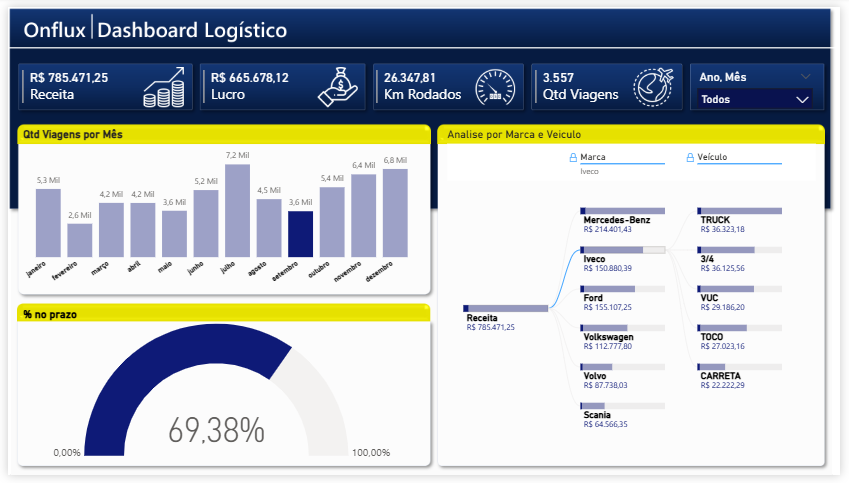

What the dashboard file says about the page in this screenshot:
{"tool":"powerbi","page":{"name":"Página 1","canvas":[1280,720],"ordinal":0},"visuals":[{"type":"multiRowCard","fields":{"Values":["BaseLogistica.Receita"]},"box":[16.7,91.7,237.5,63.3],"z":0},{"type":"multiRowCard","fields":{"Values":["BaseLogistica.QTD viagens"]},"box":[805.8,92.5,237.5,63.3],"z":1000},{"type":"multiRowCard","fields":{"Values":["BaseLogistica.Km Rodados"]},"box":[561.7,92.5,237.5,63.3],"z":2000},{"type":"multiRowCard","fields":{"Values":["BaseLogistica.Lucro"]},"box":[295,91.7,237.5,63.3],"z":3000},{"type":"image","box":[708.9,92.2,81.1,61.1],"z":4000},{"type":"image","box":[466.7,91.7,81.7,61.7],"z":5000},{"type":"image","box":[202,92,76,62],"z":6000},{"type":"image","box":[951.7,91.7,81.7,61.7],"z":7000},{"type":"columnChart","fields":{"Y":["BaseLogistica.Qtd Viagens"],"Category":["BaseLogistica.Data Entrega.Variation.Hierarquia de datas.Mês"]},"box":[18.6,185.7,621.4,255.7],"z":8000},{"type":"gauge","fields":{"Y":["BaseLogistica.% no prazo"]},"box":[18.6,462.9,621.4,237.1],"z":9000},{"type":"decompositionTreeVisual","title":"Analise por Marca e Veiculo","fields":{"Analyze":["BaseLogistica.Receita"],"ExplainBy":["BaseLogistica.Marca","BaseLogistica.Veículo"]},"box":[670,185.7,577.1,514.3],"z":10000},{"type":"slicer","fields":{"Values":["BaseLogistica.Data Entrega.Variation.Hierarquia de datas.Ano","BaseLogistica.Data Entrega.Variation.Hierarquia de datas.Mês"]},"box":[1050,92,197,64],"z":11000}]}

Visuals, with their boxes in screenshot pixels (x1, y1, x2, y2), scaled from the page's 1280x720 canvas onto the 849x483 screenshot:
multiRowCard - BaseLogistica.Receita: left=11, top=62, right=169, bottom=104
multiRowCard - BaseLogistica.QTD viagens: left=534, top=62, right=692, bottom=105
multiRowCard - BaseLogistica.Km Rodados: left=373, top=62, right=530, bottom=105
multiRowCard - BaseLogistica.Lucro: left=196, top=62, right=353, bottom=104
image: left=470, top=62, right=524, bottom=103
image: left=310, top=62, right=364, bottom=103
image: left=134, top=62, right=184, bottom=103
image: left=631, top=62, right=685, bottom=103
columnChart - BaseLogistica.Qtd Viagens x BaseLogistica.Data Entrega.Variation.Hierarquia de datas.Mês: left=12, top=125, right=424, bottom=296
gauge - BaseLogistica.% no prazo: left=12, top=311, right=424, bottom=470
"Analise por Marca e Veiculo" decompositionTreeVisual: left=444, top=125, right=827, bottom=470
slicer - BaseLogistica.Data Entrega.Variation.Hierarquia de datas.Ano x BaseLogistica.Data Entrega.Variation.Hierarquia de datas.Mês: left=696, top=62, right=827, bottom=105
